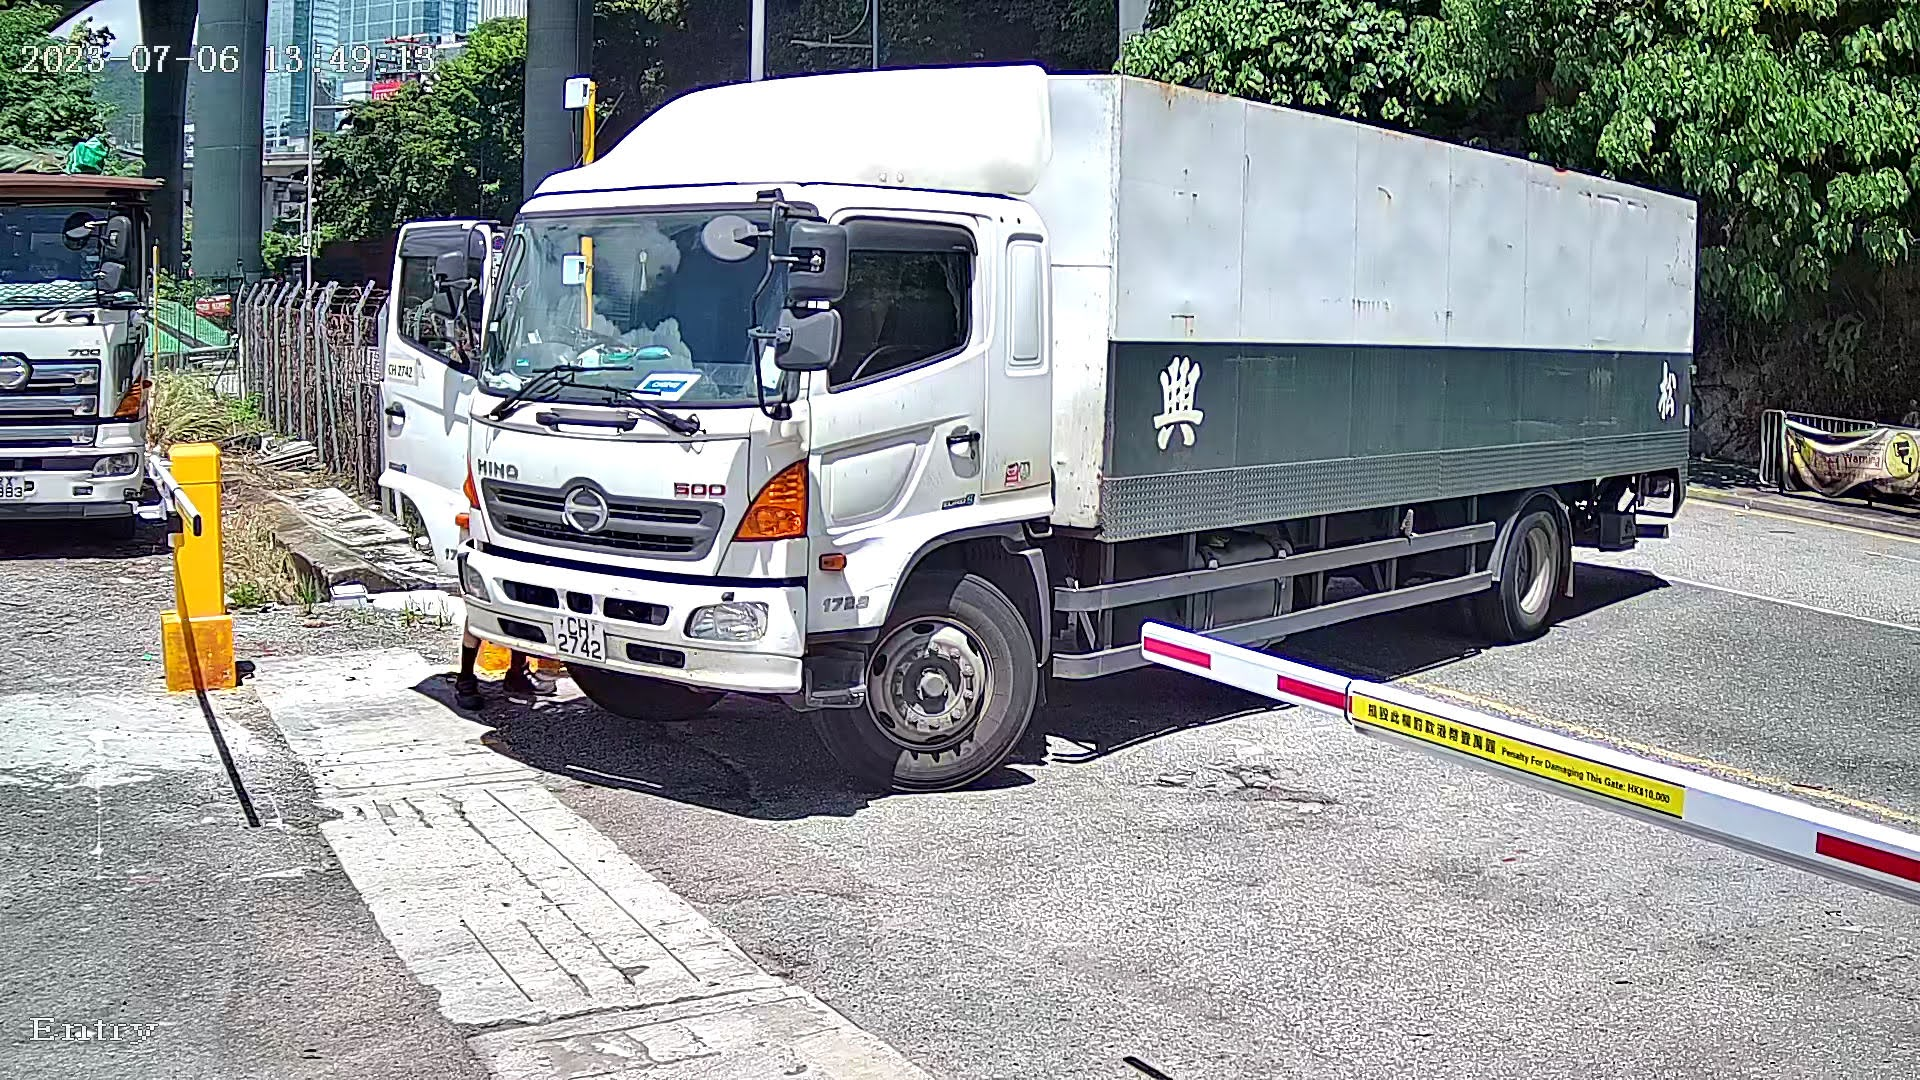truck: (334, 1, 1745, 825)
